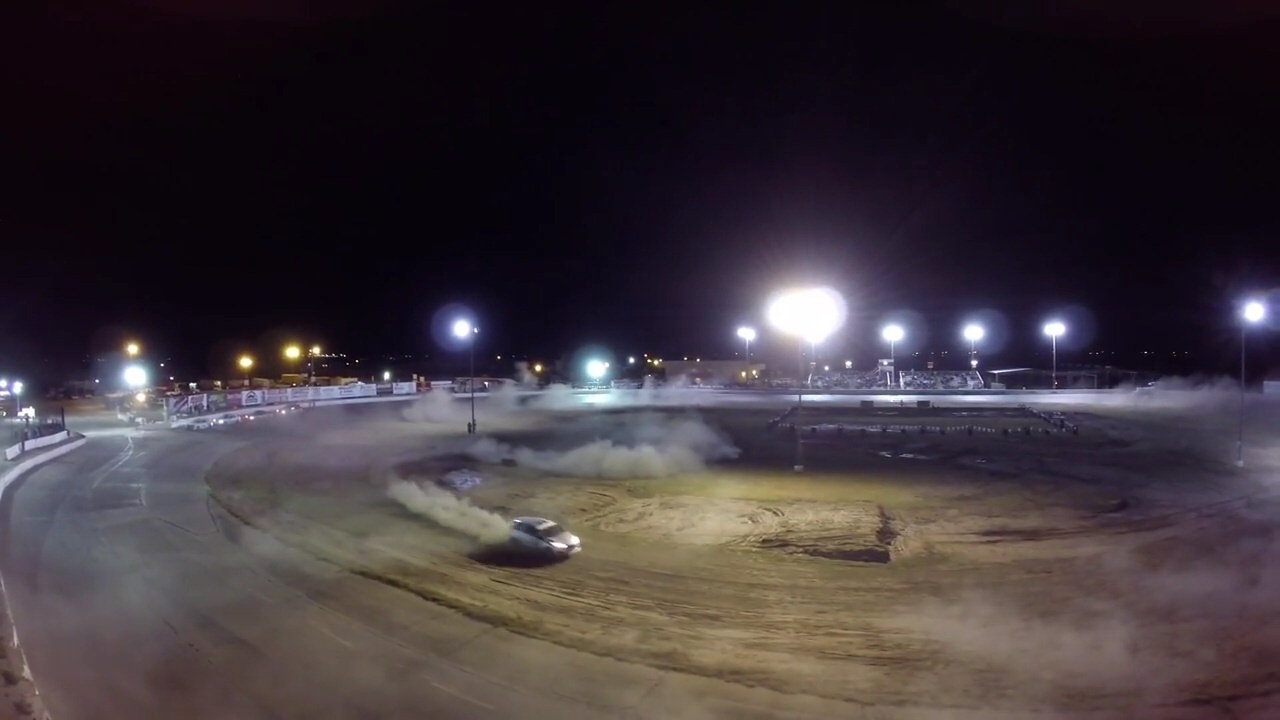araba: (502, 511, 583, 559)
